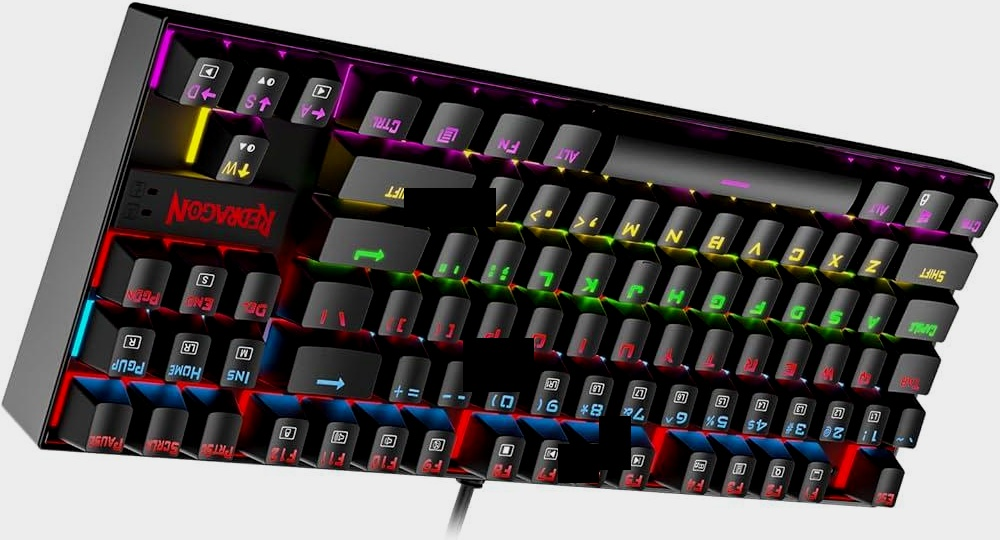-: (867, 316, 880, 330)
0: (490, 395, 514, 409)
0-1-2-3-4-5-6-7-8-9-A-B-C-D-E-F: (316, 308, 350, 329), (484, 200, 508, 217), (392, 386, 423, 399), (573, 216, 598, 232), (441, 389, 469, 403), (530, 208, 553, 224), (388, 318, 408, 336), (438, 261, 463, 275), (437, 322, 456, 339), (488, 266, 509, 281), (895, 437, 916, 447)
1: (861, 429, 880, 443)
2: (823, 426, 845, 439)
3: (786, 422, 806, 436)
4: (746, 419, 766, 433)
5: (707, 415, 729, 429)
6: (666, 411, 689, 424)
7: (623, 407, 646, 423)
8: (581, 403, 603, 417)
9: (537, 397, 559, 412)
A: (553, 145, 582, 165), (867, 202, 890, 216)
ALT: (707, 237, 724, 251)
B: (313, 374, 350, 392)
BACKSPACE: (789, 249, 802, 262)
C: (908, 320, 937, 337)
CAPSLK: (371, 114, 403, 136), (960, 218, 984, 233)
CTRL: (790, 307, 804, 320)
D: (240, 301, 269, 319)
DEL: (246, 93, 273, 112)
DOWN: (782, 362, 799, 378)
E: (185, 294, 216, 312)
END: (351, 244, 388, 264)
ENTER: (878, 492, 895, 507)
ESC: (752, 300, 766, 314)
F: (803, 486, 822, 503)
F1: (371, 453, 400, 470)
F10: (322, 451, 345, 467)
F11: (270, 447, 296, 465)
F12: (766, 482, 783, 500)
F2: (728, 479, 745, 495)
F3: (686, 477, 706, 494)
F4: (624, 472, 642, 488)
F5: (585, 471, 599, 487)
F6: (538, 465, 558, 484)
F7: (490, 464, 513, 479)
F8: (422, 459, 442, 475)
F9: (496, 135, 524, 155)
FN: (709, 294, 724, 309)
G: (669, 289, 684, 303)
H: (166, 364, 202, 379)
HOME: (575, 337, 591, 356)
I: (224, 368, 252, 385)
INS: (627, 285, 642, 301)
J: (581, 277, 599, 292)
K: (36, 10, 996, 508)
KEYBOARD: (537, 271, 553, 287)
L: (299, 105, 325, 123)
LEFT: (623, 222, 638, 237)
M: (436, 125, 458, 145)
MENU: (667, 227, 683, 243)
N: (529, 333, 549, 351)
O: (483, 327, 501, 344)
P: (88, 432, 125, 453)
PAUSE: (124, 289, 161, 307)
PGDN: (109, 358, 147, 374)
PGUP: (202, 442, 233, 459)
PRTSC: (857, 370, 872, 387)
Q: (743, 358, 760, 374)
R: (189, 83, 216, 103)
RIGHT: (829, 312, 844, 326)
S: (146, 439, 180, 456)
SCRLK: (381, 186, 424, 206), (917, 265, 945, 283)
SHIFT: (601, 136, 862, 215)
SPACE: (701, 354, 718, 369)
T: (898, 376, 922, 392)
TAB: (617, 343, 636, 359)
U: (227, 162, 250, 178)
UP: (748, 243, 763, 256)
V: (818, 367, 836, 382)
W: (916, 209, 934, 227)
WIN: (829, 252, 844, 269)
X: (660, 347, 676, 364)
Y: (865, 260, 880, 274)
